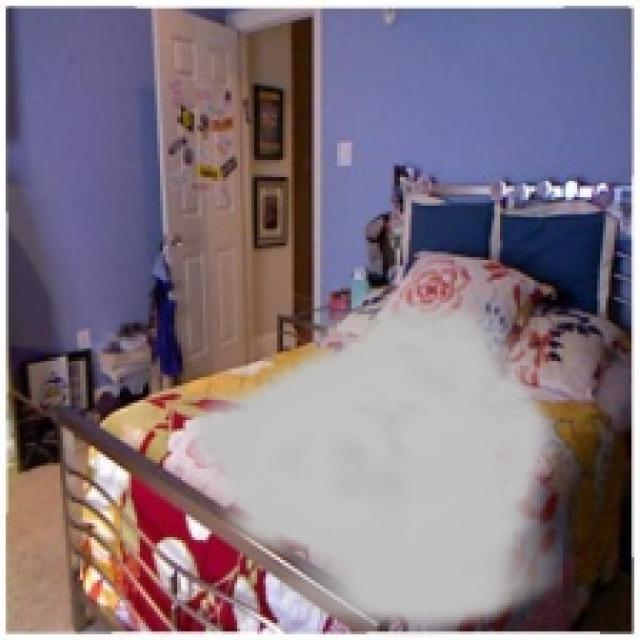Smoke: (174, 286, 563, 638)
